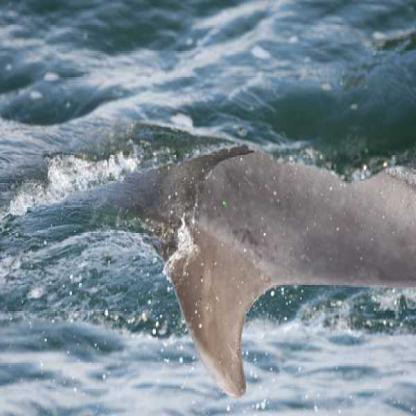dolphin-whale: (132, 142, 415, 400)
